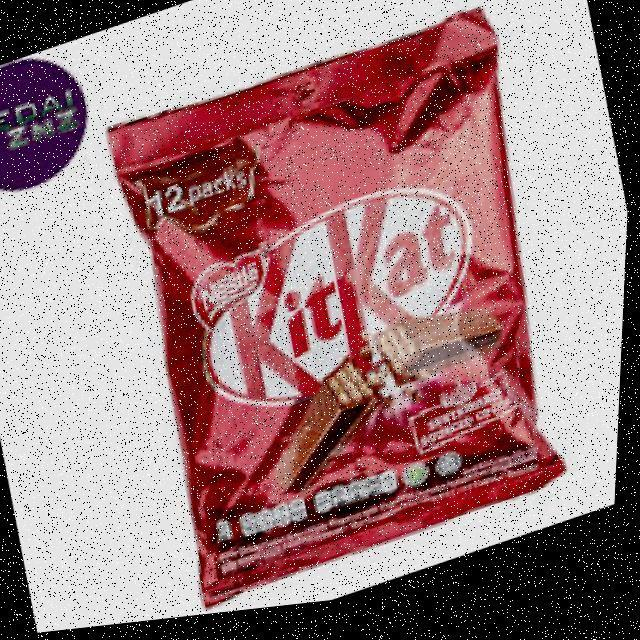kitkat_chocolate: (94, 108, 564, 557)
